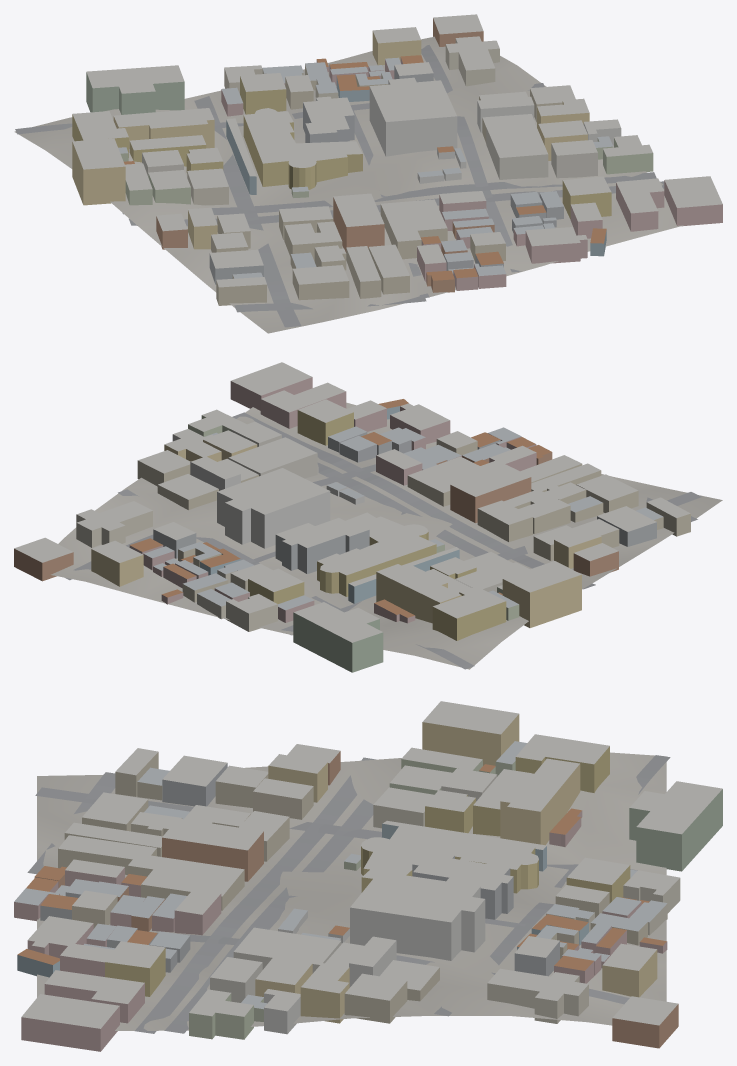
3 renders of one model, top to bottom at view 1: azimuth 30°, elevation 25°; view 2: azimuth 150°, elevation 25°; view 3: azimuth 270°, elevation 25°, orthographic. The views are drawn at different scales.
Parts seen in each view (by area): view 1: Lo; view 2: Lo; view 3: Lo.
Part boxes in pixels (<box>): Lo: <box>14,14,722,333</box>; Lo: <box>14,362,722,672</box>; Lo: <box>14,701,722,1051</box>.
Size of the model in its own units: 285 by 29.88 by 288.
